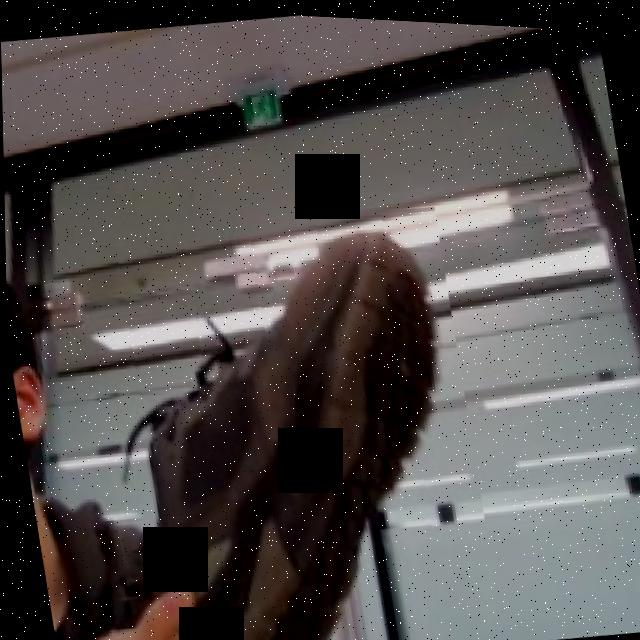shoe: (78, 182, 502, 640)
